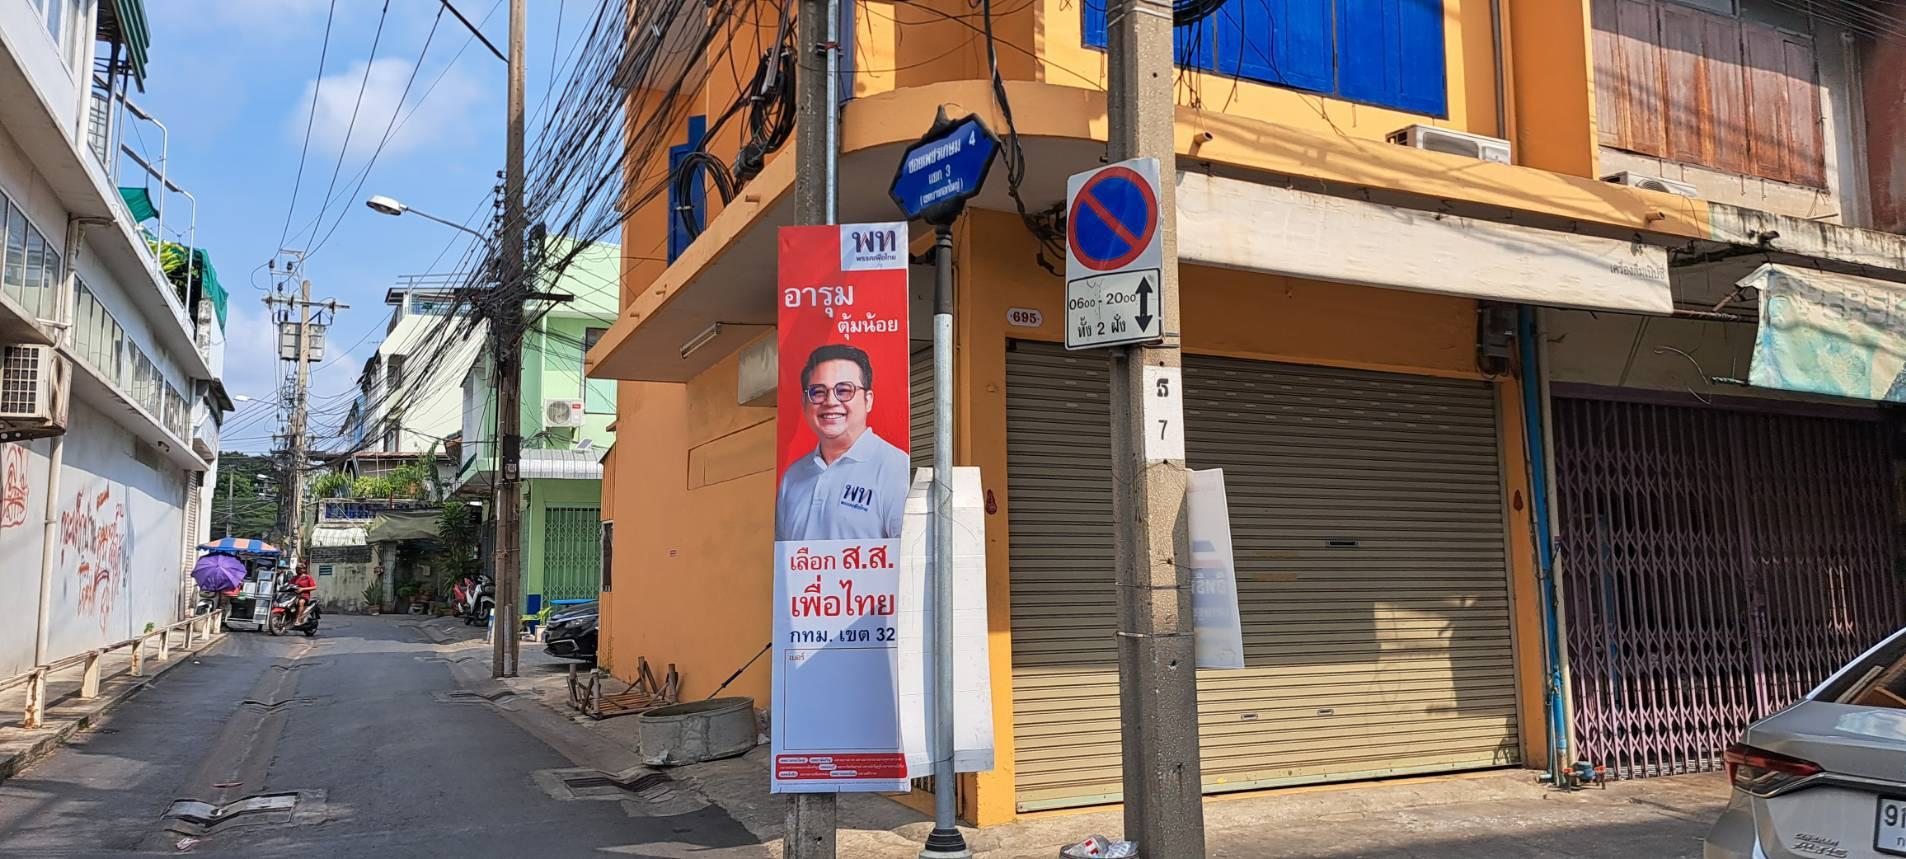Banner: (760, 208, 923, 808)
